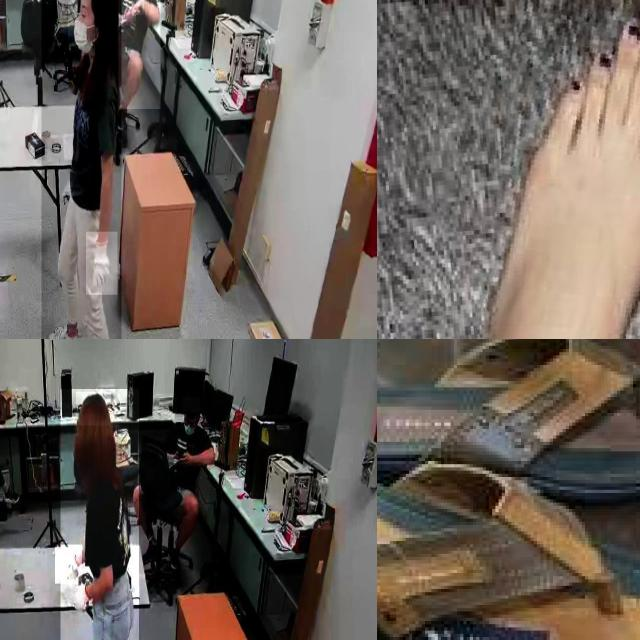Barefoots: (481, 26, 640, 339)
Sandals: (377, 339, 640, 640)
face_mask: (68, 0, 95, 55), (182, 413, 198, 445)
hand_glove: (86, 232, 118, 296), (55, 544, 82, 584), (72, 580, 90, 625)
hand_noglove: (121, 7, 137, 23), (131, 0, 144, 15)
head_nohelmet: (76, 392, 112, 426), (183, 397, 201, 413)
person: (41, 0, 122, 339), (60, 389, 139, 640), (157, 394, 217, 552), (118, 0, 161, 110), (0, 381, 19, 523)
shoes: (1, 479, 22, 506)
